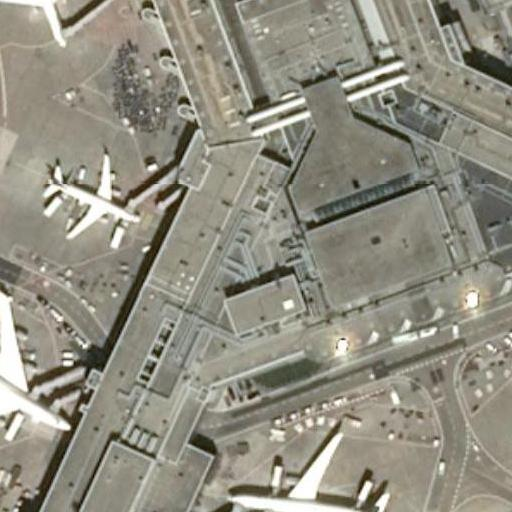Aircraft: (212, 412, 405, 512), (0, 280, 83, 456), (37, 141, 146, 245), (0, 0, 94, 53), (504, 295, 512, 486)
